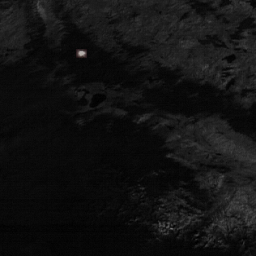Target: (76, 50, 87, 57)
